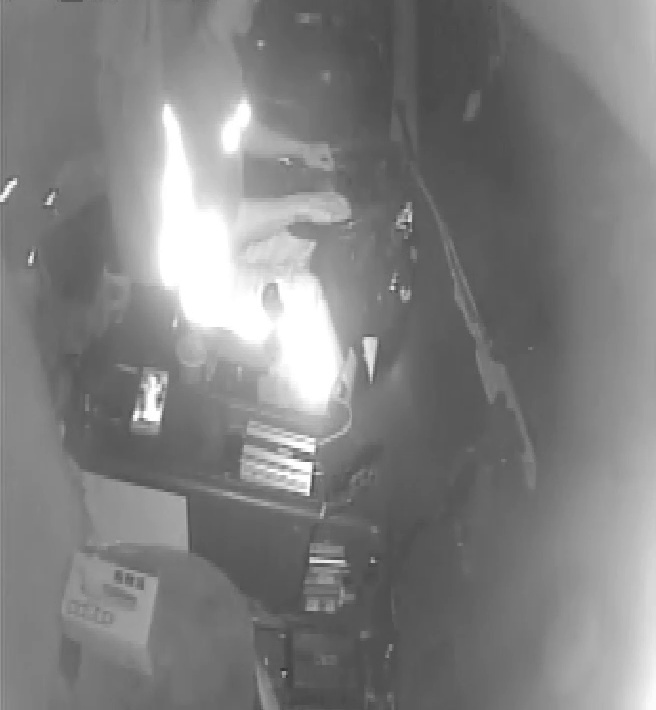cellphone: (130, 364, 170, 436)
